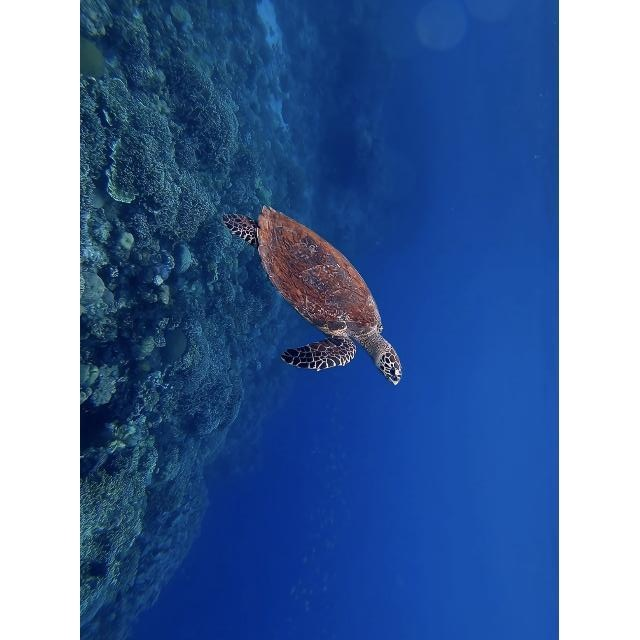turtle: (221, 201, 405, 386)
